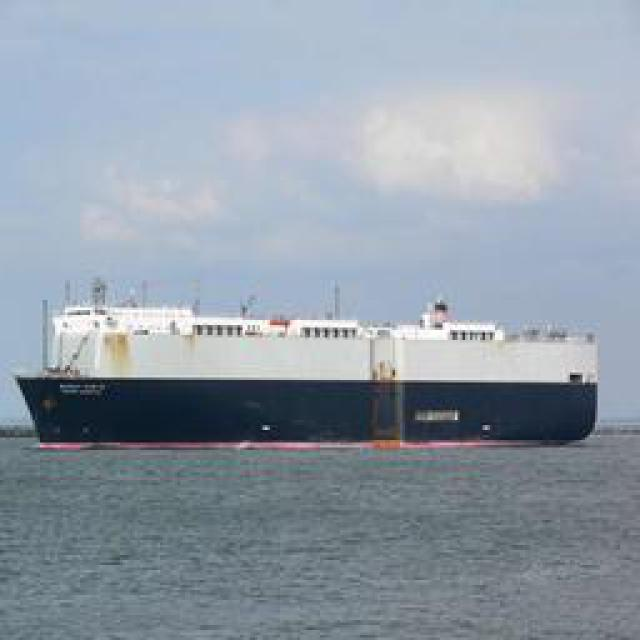Ship: (15, 293, 620, 451)
